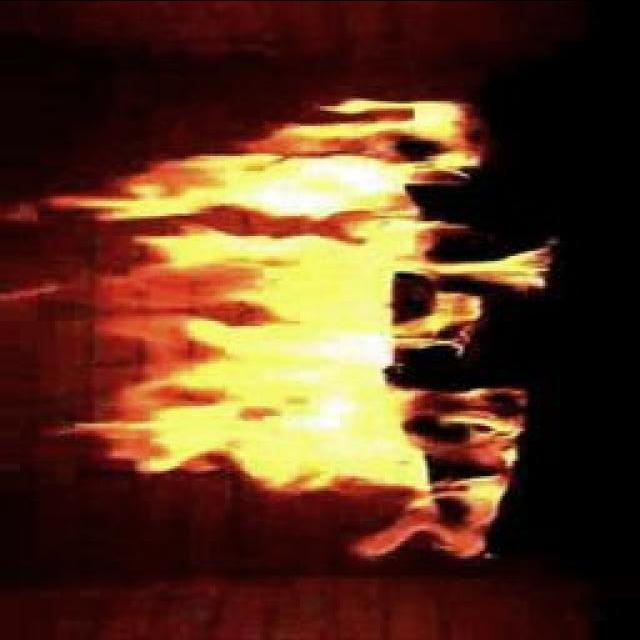Fire: (98, 112, 493, 464)
